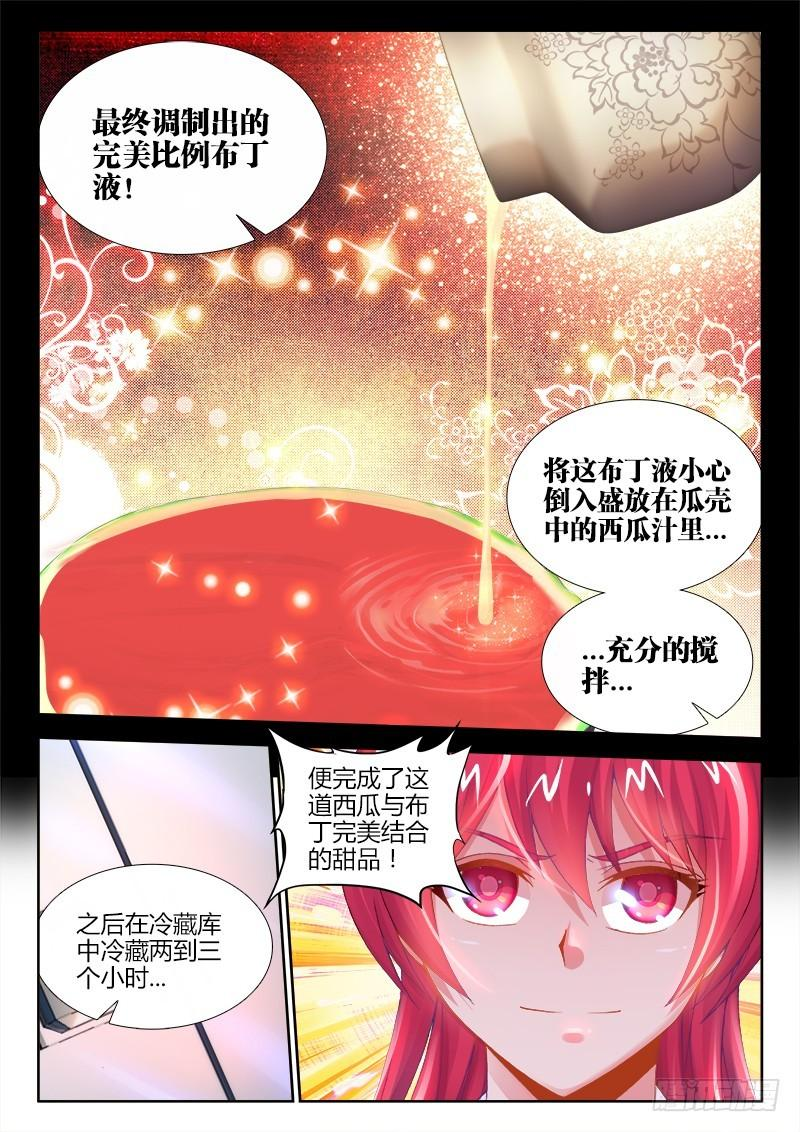boxBomb: (261, 727, 474, 910)
boxEllipse: (36, 35, 330, 254), (504, 398, 762, 589), (36, 862, 267, 1030), (534, 589, 756, 733)
minBox: (29, 23, 764, 739), (273, 733, 768, 1108), (30, 736, 297, 1105)
